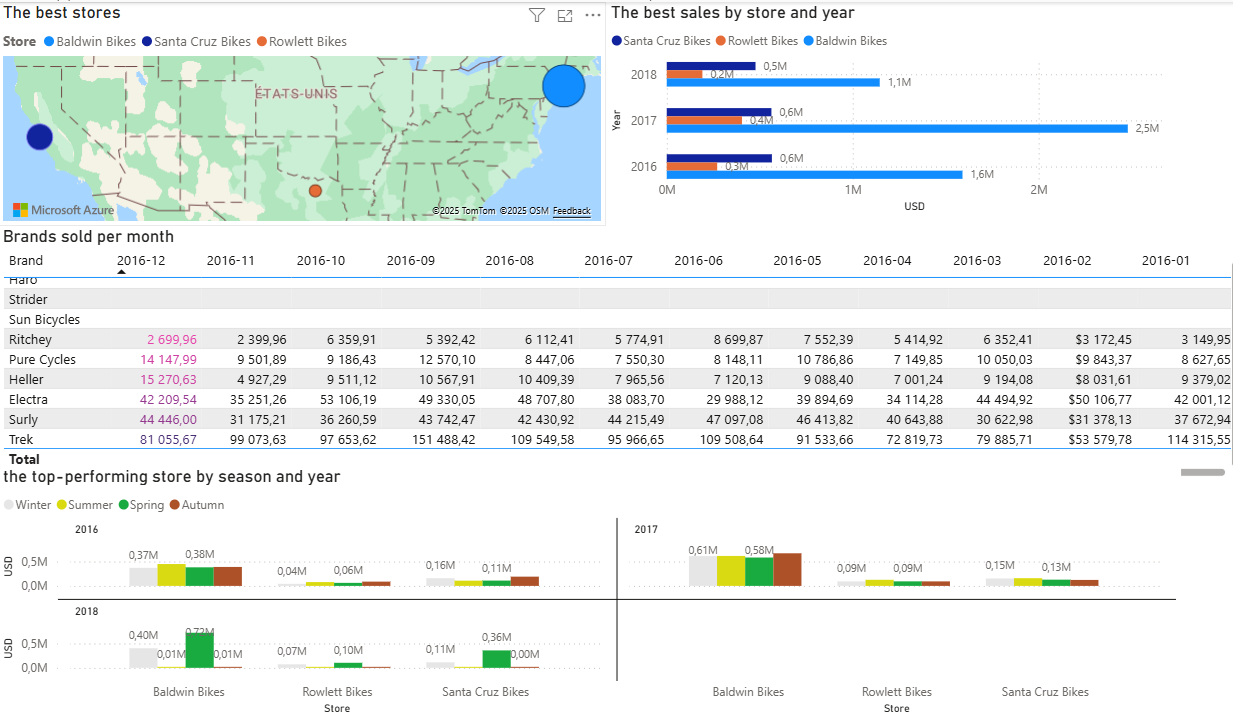

The page's visual inventory and layout, read from the dashboard file:
{"tool":"powerbi","page":{"name":"Local Bike1","canvas":[1280,720],"ordinal":0},"visuals":[{"type":"azureMap","title":"The best stores","fields":{"Y":["stores_ranking_yearly_report.store_latitude"],"X":["stores_ranking_yearly_report.store_longitude"],"Series":["stores_ranking_yearly_report.store_name"],"Size":["Sum(stores_ranking_yearly_report.total_sales)"],"PathID":["stores_ranking_yearly_report.year_date"]},"box":[16,0,608,224],"z":0},{"type":"tableEx","title":"Brands sold per month","fields":{"Values":["products_brands_monthly_report.2016-12","products_brands_monthly_report.2016-11","products_brands_monthly_report.2016-10","products_brands_monthly_report.2016-09","products_brands_monthly_report.2016-08","products_brands_monthly_report.2016-07","products_brands_monthly_report.2016-06","products_brands_monthly_report.2016-05","products_brands_monthly_report.2016-04","products_brands_monthly_report.2016-03","products_brands_monthly_report.2016-02","products_brands_monthly_report.2016-01"]},"box":[16,224,1248,256],"z":1000},{"type":"clusteredColumnChart","title":"the top-performing store by season and year","fields":{"Category":["sales_seasons_yearly_report.store"],"Y":["Sum(sales_seasons_yearly_report.sales_Winter)","Sum(sales_seasons_yearly_report.sales_Summer)","Sum(sales_seasons_yearly_report.sales_Spring)","Sum(sales_seasons_yearly_report.sales_Autumn)"],"Rows":["sales_seasons_yearly_report.year"]},"box":[16,464,1184,256],"z":2000},{"type":"clusteredBarChart","title":"The best sales by store and year","fields":{"Category":["sales_stores_monthly_report.Year"],"Y":["Sum(sales_stores_monthly_report.Santa Cruz Bikes)","Sum(sales_stores_monthly_report.Rowlett Bikes)","Sum(sales_stores_monthly_report.Baldwin Bikes)"]},"box":[624,0,576,216],"z":3000}]}

Visuals, with their boxes on the page's 1280x720 design canvas (x1, y1, x2, y2). These are canvas units, not pixel positions in the 1233x720 screenshot, which may show the page scaled, cropped or inside an application window:
"The best stores" azureMap: left=16, top=0, right=624, bottom=224
"Brands sold per month" tableEx: left=16, top=224, right=1264, bottom=480
"the top-performing store by season and year" clusteredColumnChart: left=16, top=464, right=1200, bottom=720
"The best sales by store and year" clusteredBarChart: left=624, top=0, right=1200, bottom=216
